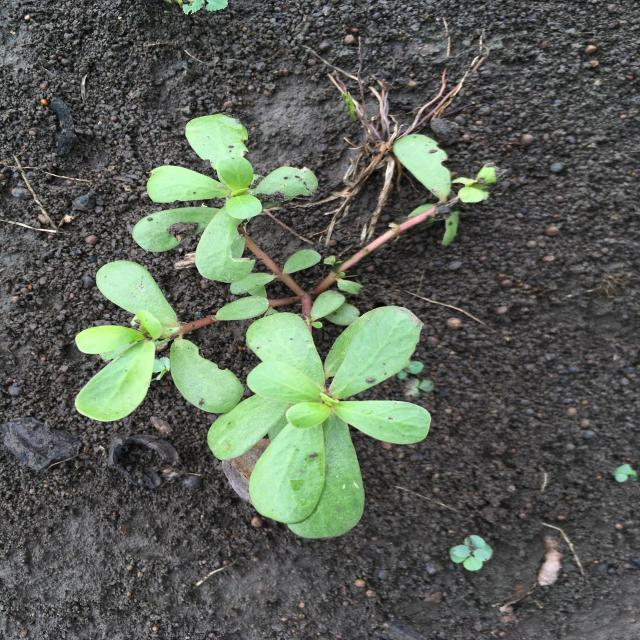Purslane: (75, 113, 502, 540)
